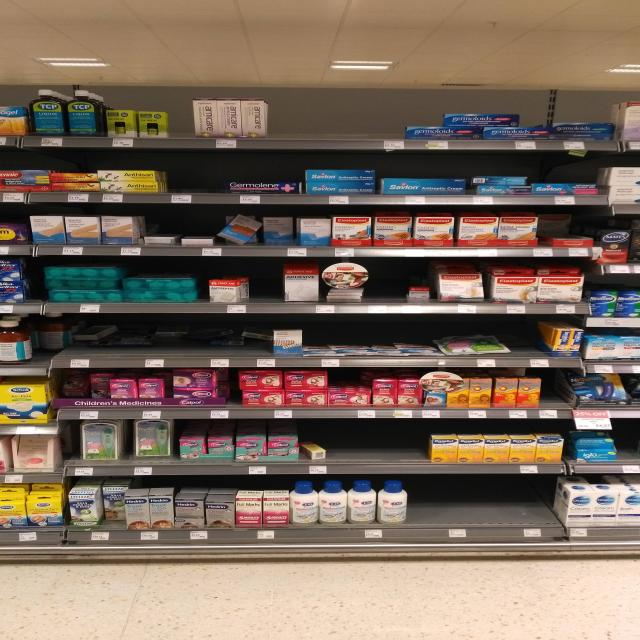void: (409, 477, 455, 536), (491, 477, 529, 538), (456, 476, 490, 536), (528, 478, 562, 536), (332, 93, 367, 149), (366, 94, 401, 149), (249, 262, 284, 314), (370, 259, 402, 313), (270, 94, 300, 149), (334, 430, 371, 474), (300, 93, 328, 150), (513, 322, 548, 367), (542, 370, 571, 418), (373, 430, 402, 476), (196, 156, 223, 204), (402, 430, 431, 474), (168, 158, 194, 203), (619, 419, 640, 474)
